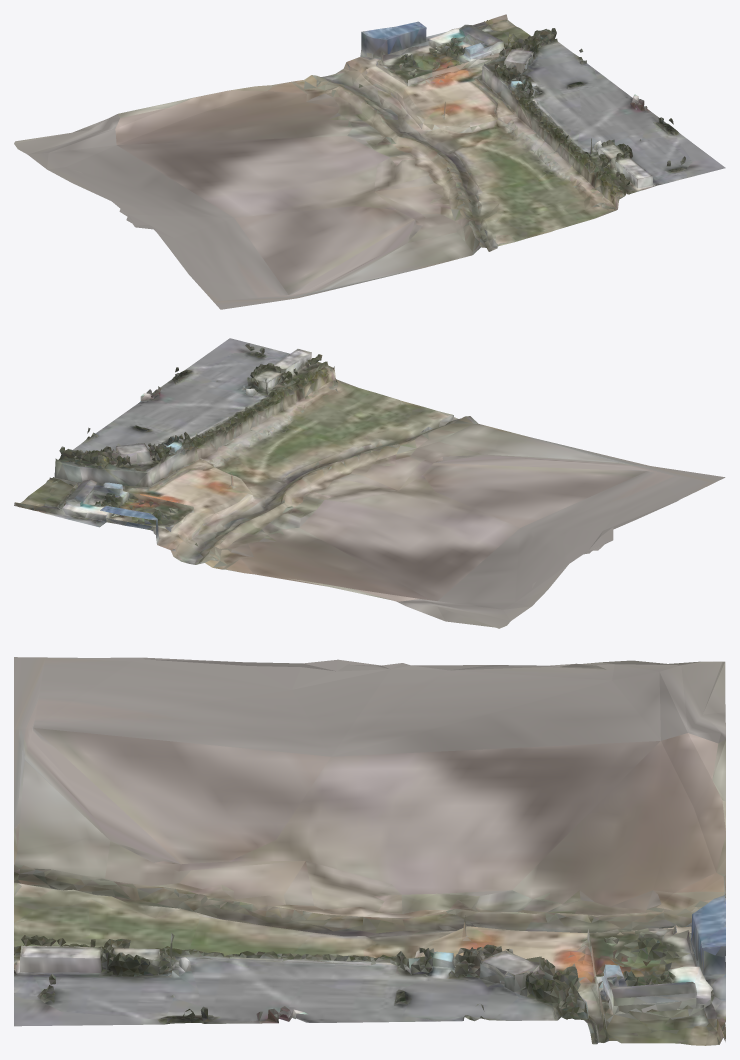
File: BlockBYXX.glb
3 views of the same model, one above another, from view 1: azimuth 30°, elevation 25°; view 2: azimuth 150°, elevation 25°; view 3: azimuth 270°, elevation 25° (orthographic). The views are drawn at different scales.
Visible parts, largest first — view 1: rtc; view 2: rtc; view 3: rtc.
Boxes of the visible parts, box(x1,y1,x2,y2) form: rtc: box(14, 14, 725, 309); rtc: box(14, 338, 725, 628); rtc: box(14, 657, 725, 1045).
Bounding box in the file's own units: 315 × 26.8 × 238.
Materials: 2 (2 with a texture image).
